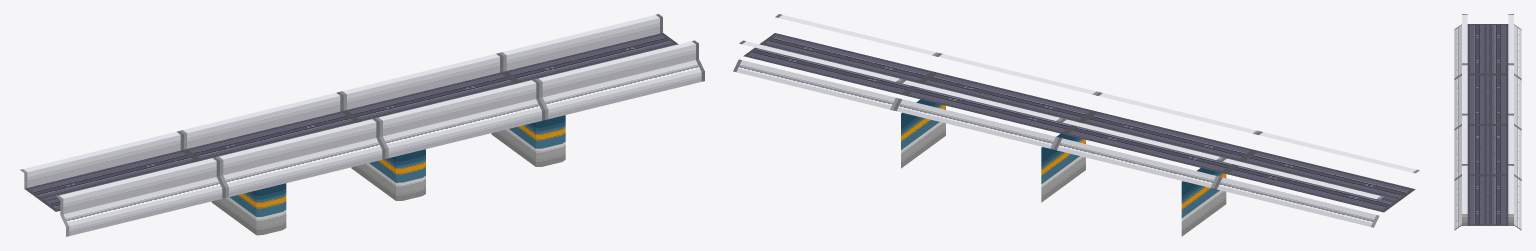
3 renders of one model, left to right at view 1: azimuth 30°, elevation 25°; view 2: azimuth 150°, elevation 25°; view 3: azimuth 270°, elevation 25°, orthographic. The views are drawn at different scales.
Size of the model in its own units: 32 by 3.94 by 4.5.
3 materials, 3 textured.
